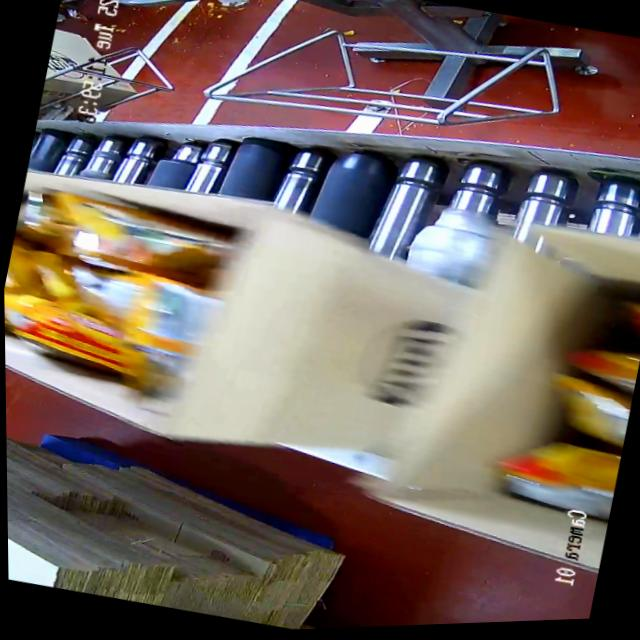FRENCH_CHEESE: (3, 171, 239, 393), (482, 271, 640, 528)
